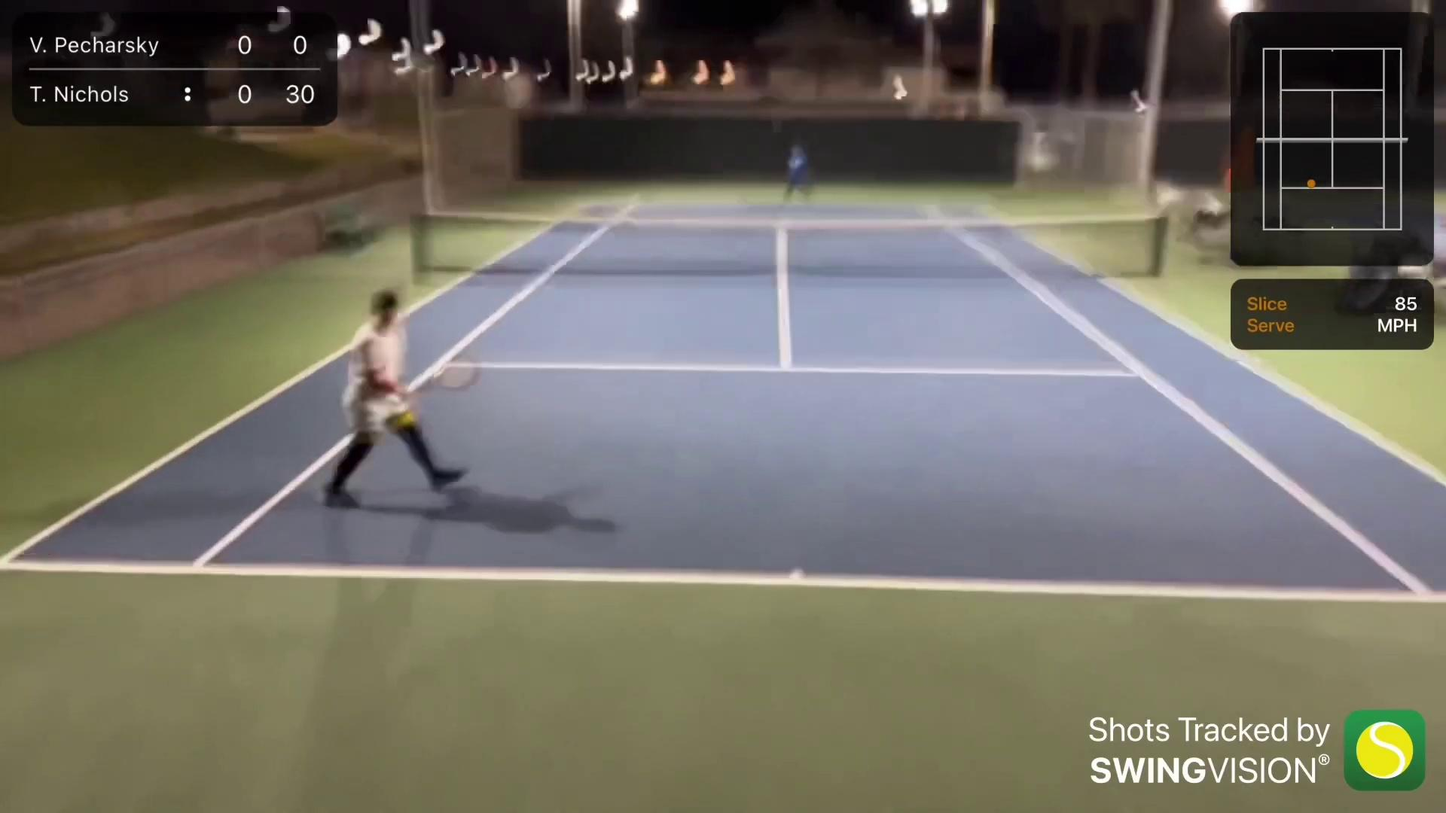ball: (395, 405, 415, 430), (281, 8, 287, 13)
